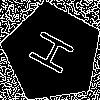H: (27, 28, 84, 81)
